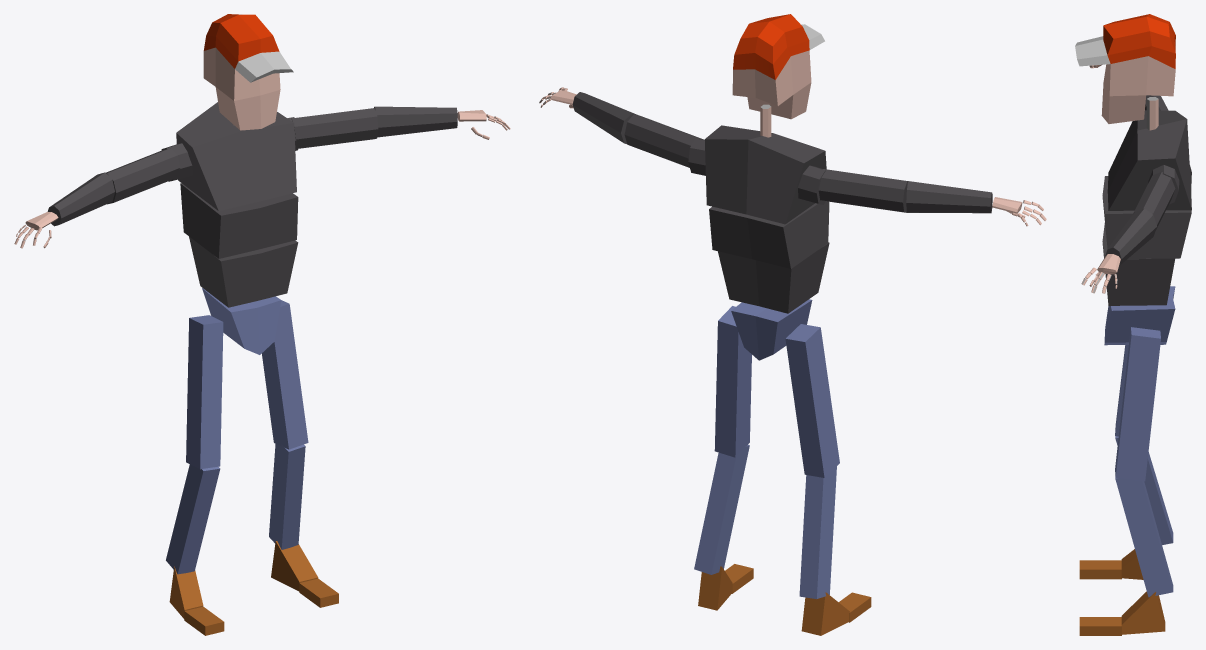
Rendered from michael.fbx.
3 views of the same model, side by side, from view 1: azimuth 30°, elevation 25°; view 2: azimuth 150°, elevation 25°; view 3: azimuth 270°, elevation 25° (orthographic). The views are drawn at different scales.
Visible parts, largest first — view 1: Cube; view 2: Cube; view 3: Cube.
Boxes of the visible parts, x1,y1,x2,y2 form: Cube: (14, 14, 510, 635); Cube: (539, 14, 1046, 635); Cube: (1075, 14, 1191, 635).
Bounding box in the file's own units: 179 × 203 × 36.61.
